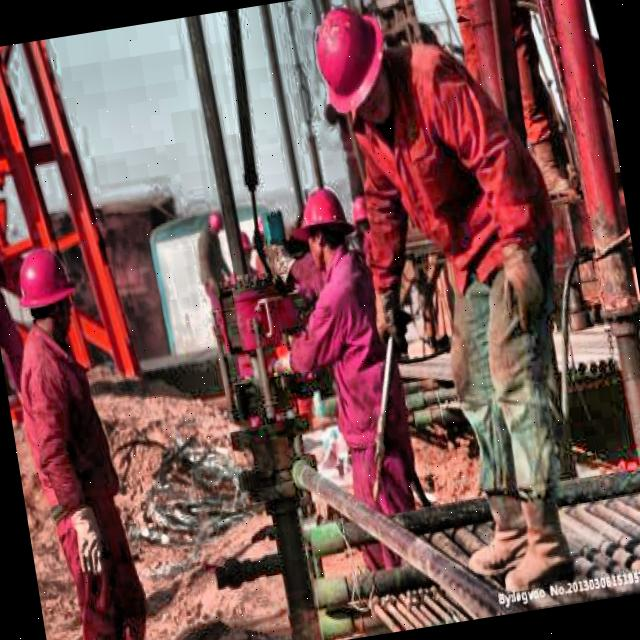helmet: (300, 0, 399, 147), (9, 242, 82, 352), (288, 178, 360, 276), (200, 206, 228, 244)
